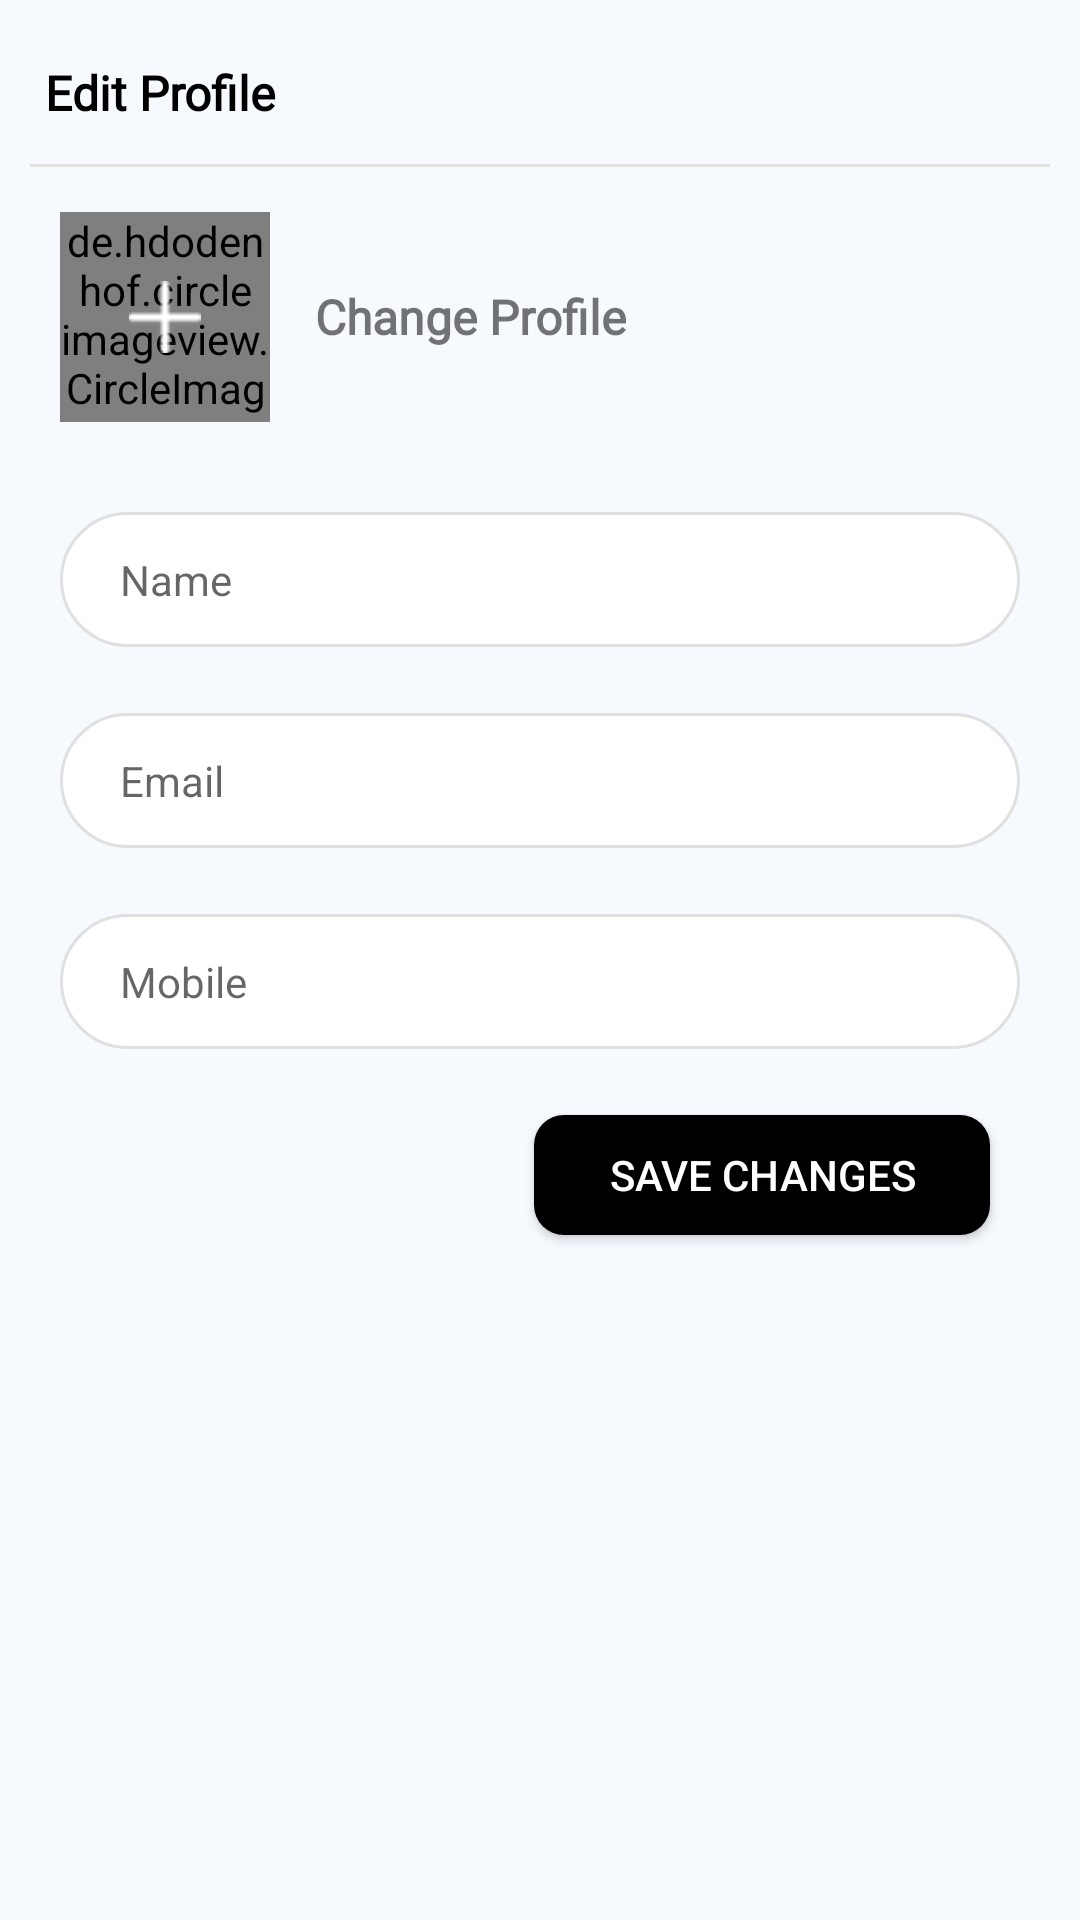

Icon bounding boxes for this 1080×1920 phone screenshot, format Rect(x1, y1, x2, y2):
plus: Rect(129, 281, 201, 353)
